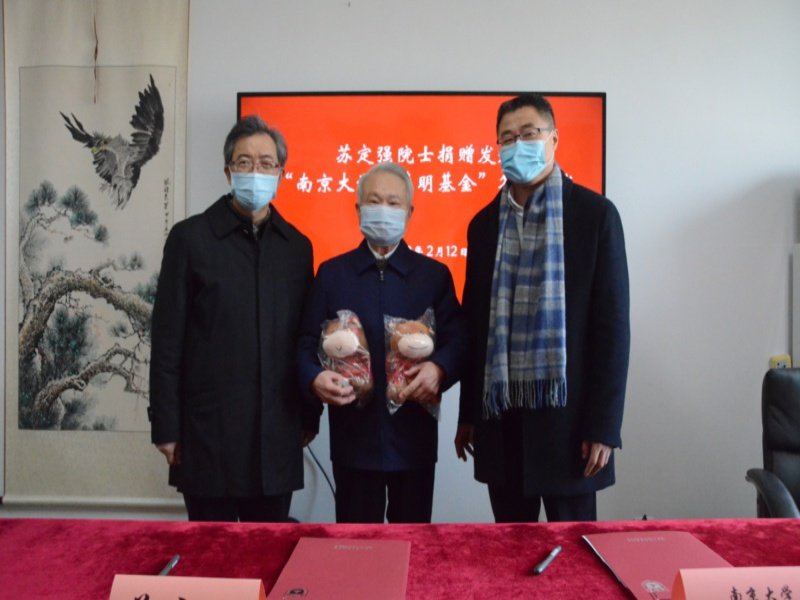ManaoArotava: (215, 113, 302, 240), (484, 93, 582, 199), (350, 156, 416, 256)
